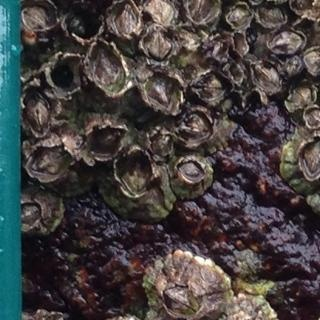Barnacle: (87, 43, 124, 93), (29, 142, 76, 177), (119, 150, 152, 193), (26, 88, 54, 137), (194, 75, 231, 108), (146, 70, 177, 108), (178, 113, 211, 145), (165, 283, 200, 313), (145, 28, 174, 62), (112, 3, 138, 40), (22, 0, 55, 28), (271, 29, 305, 56), (250, 64, 279, 95), (299, 139, 320, 176), (144, 0, 175, 24), (17, 200, 43, 228), (151, 130, 176, 158), (256, 4, 286, 27), (186, 0, 215, 22), (289, 85, 314, 110), (176, 159, 200, 184), (282, 57, 302, 81), (230, 6, 250, 28), (292, 0, 315, 16), (306, 107, 320, 133), (305, 49, 320, 73)
